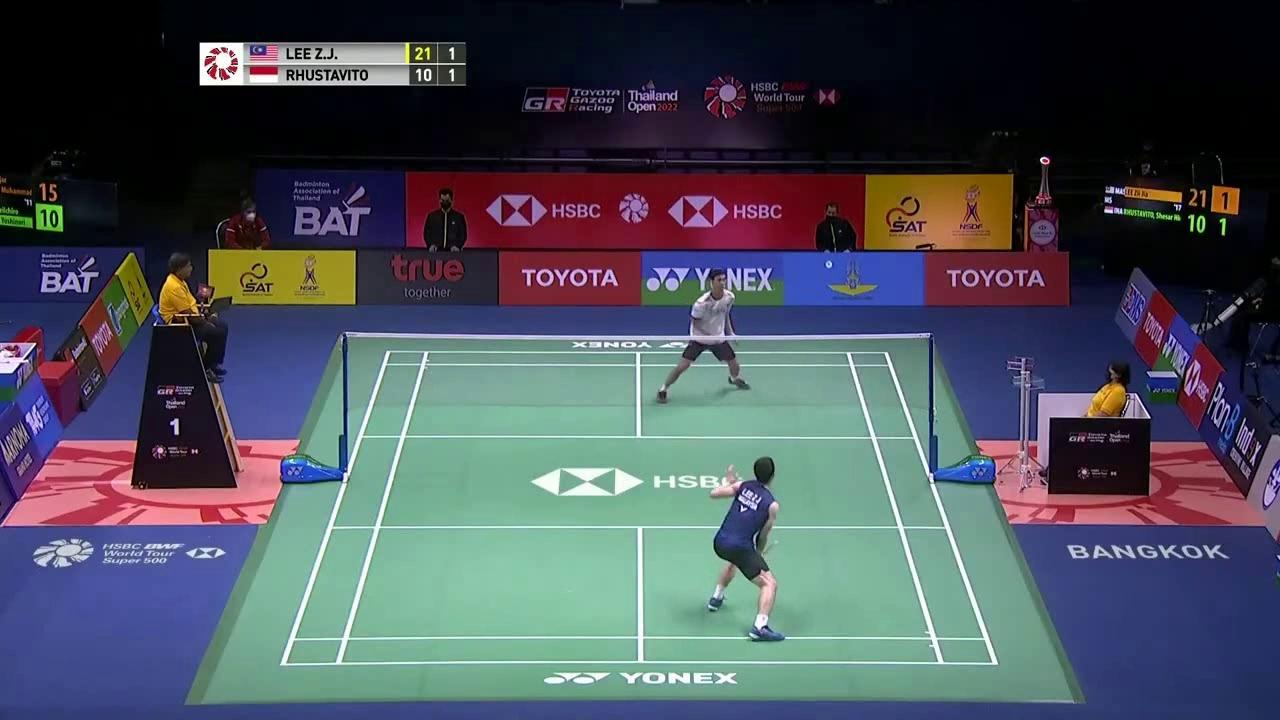racket: (740, 540, 780, 563)
shuttle: (825, 260, 833, 269)
